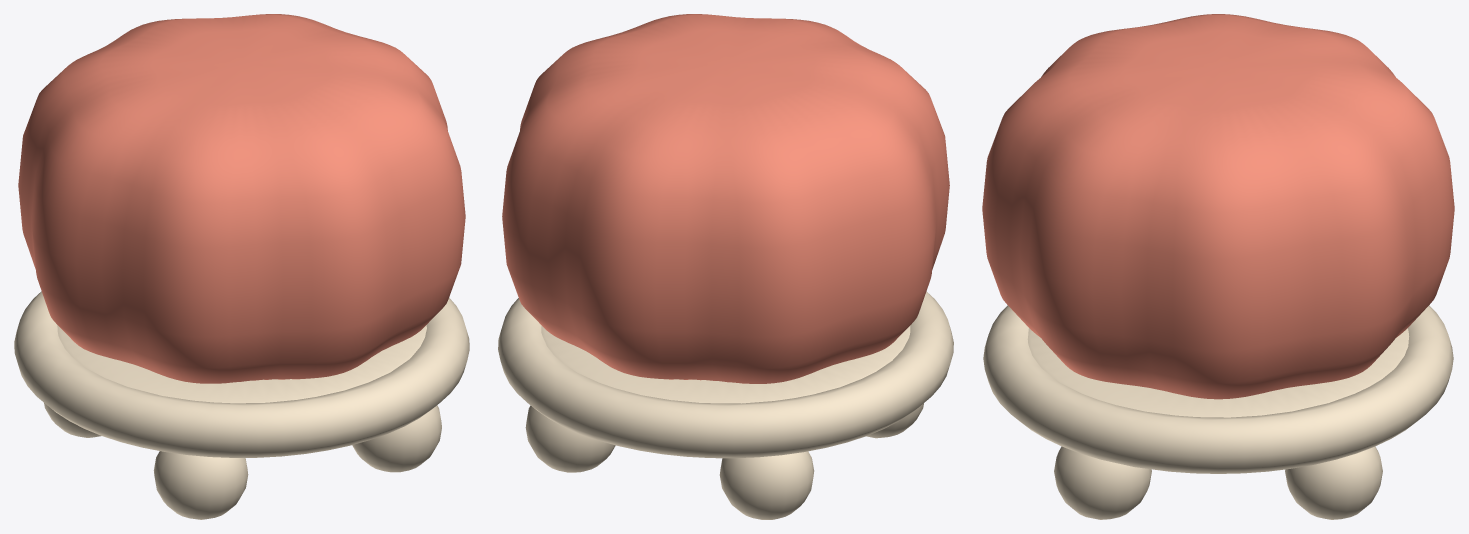
The model's file is stool_b.glb.
3 views of the same model, side by side, from view 1: azimuth 30°, elevation 25°; view 2: azimuth 150°, elevation 25°; view 3: azimuth 270°, elevation 25° (orthographic). The views are drawn at different scales.
Visible parts, largest first — view 1: body; view 2: body; view 3: body.
Boxes of the visible parts, x1=… form: body: x1=14, y1=14, x2=469, y2=519; body: x1=498, y1=14, x2=953, y2=519; body: x1=982, y1=14, x2=1454, y2=519.
Size of the model in its own units: 0.434 by 0.4047 by 0.434.
